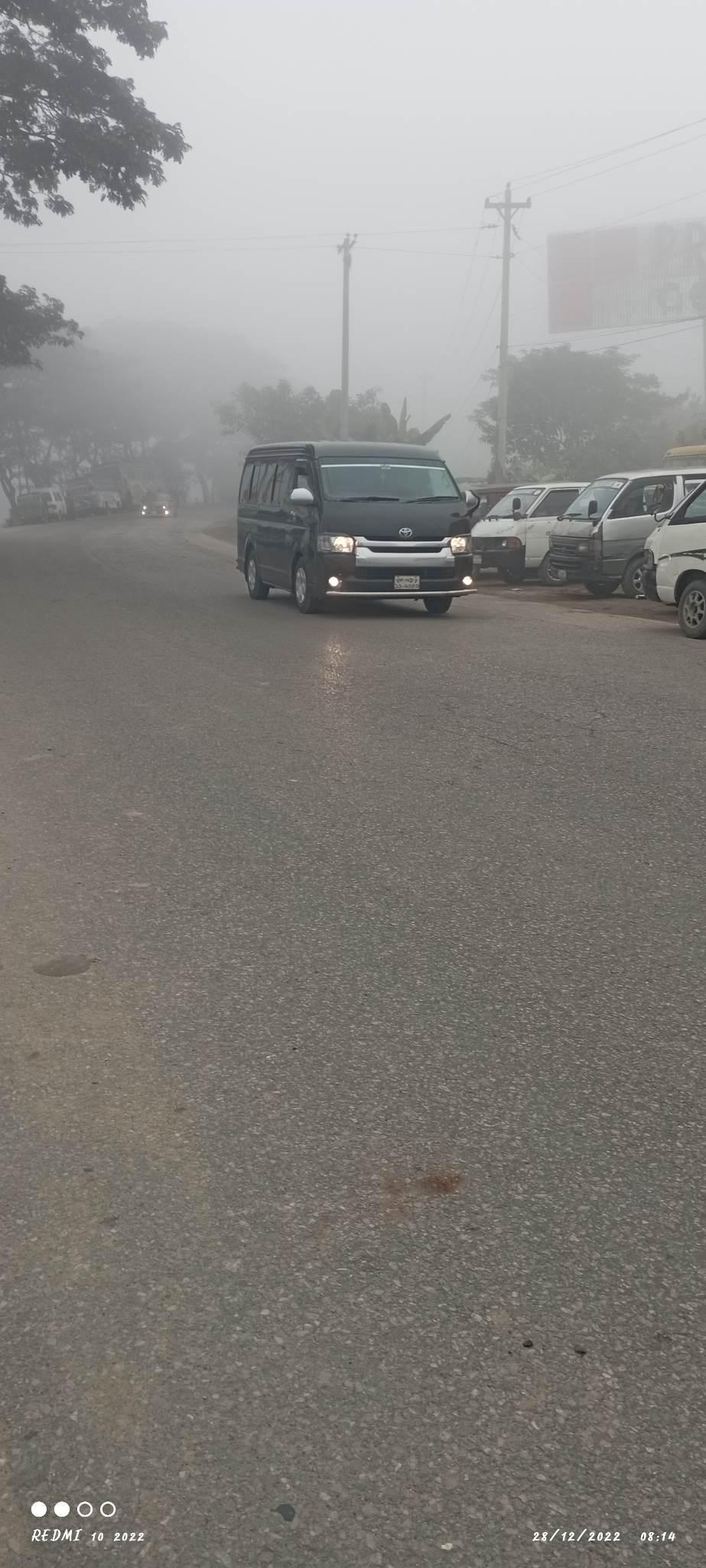Car: (224, 427, 488, 632), (545, 463, 691, 601), (475, 463, 584, 595)
